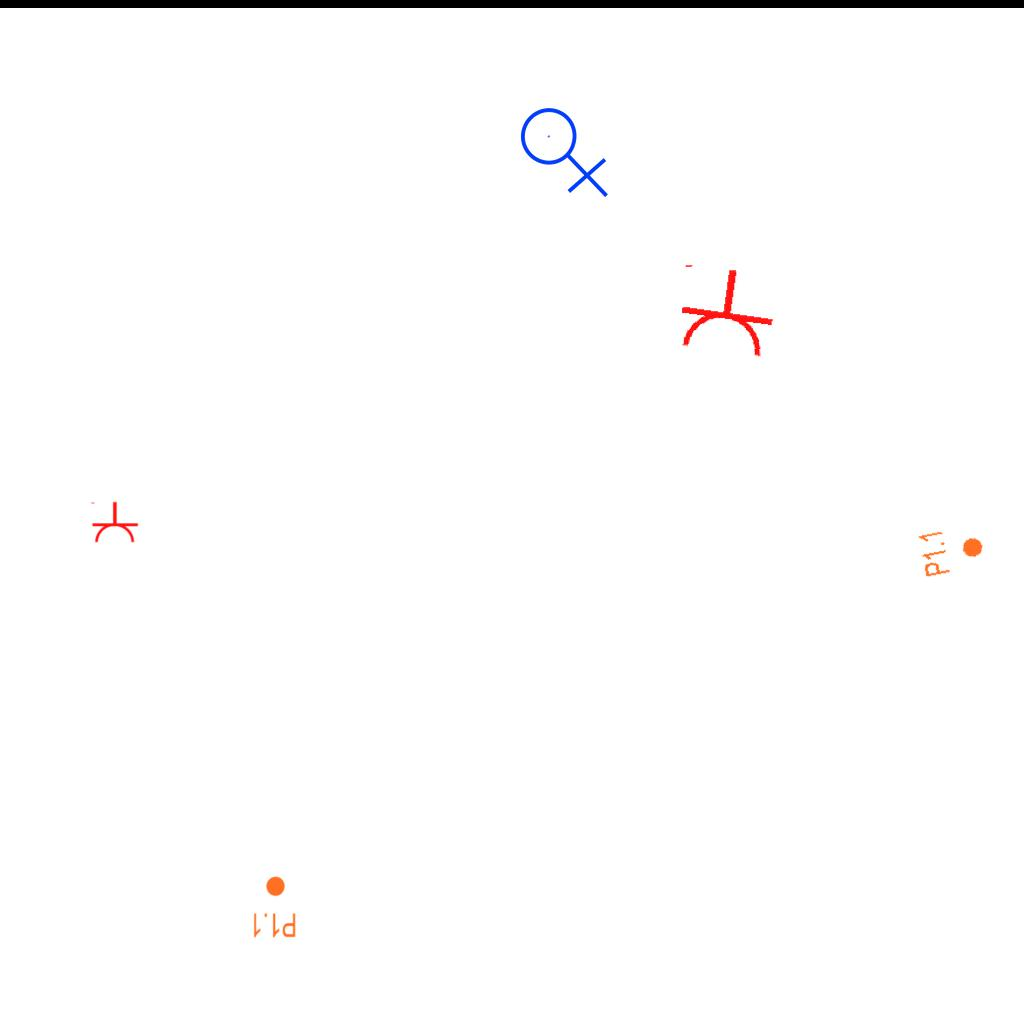Downlight_LED_Einbauleuchten_Flur: (916, 521, 988, 579), (251, 875, 297, 939)
Elektroanschluss_allgemein_230V_Geraeteanschlussdose_230V: (519, 99, 613, 198)
Schukosteckdose_einfach: (669, 260, 782, 362), (89, 501, 139, 544)
